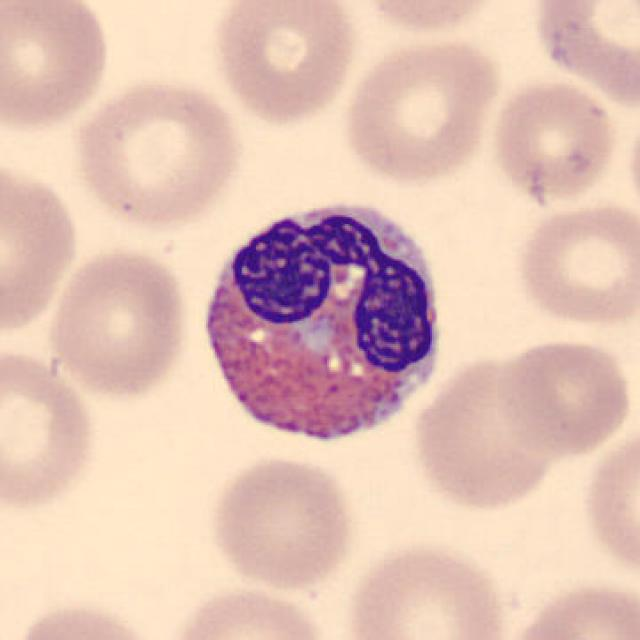Eosinophil: (189, 184, 455, 466)
RBC: (70, 74, 246, 233), (407, 347, 562, 515), (338, 32, 505, 187), (43, 243, 192, 402), (205, 452, 358, 592), (208, 0, 359, 127), (339, 537, 513, 640), (487, 76, 621, 208), (0, 342, 101, 516), (490, 335, 634, 457), (510, 198, 638, 332), (0, 153, 84, 342), (0, 0, 116, 136), (528, 0, 640, 113), (578, 420, 638, 587), (163, 583, 330, 640), (500, 575, 638, 640), (9, 597, 167, 640), (352, 0, 505, 37), (624, 99, 640, 227)
